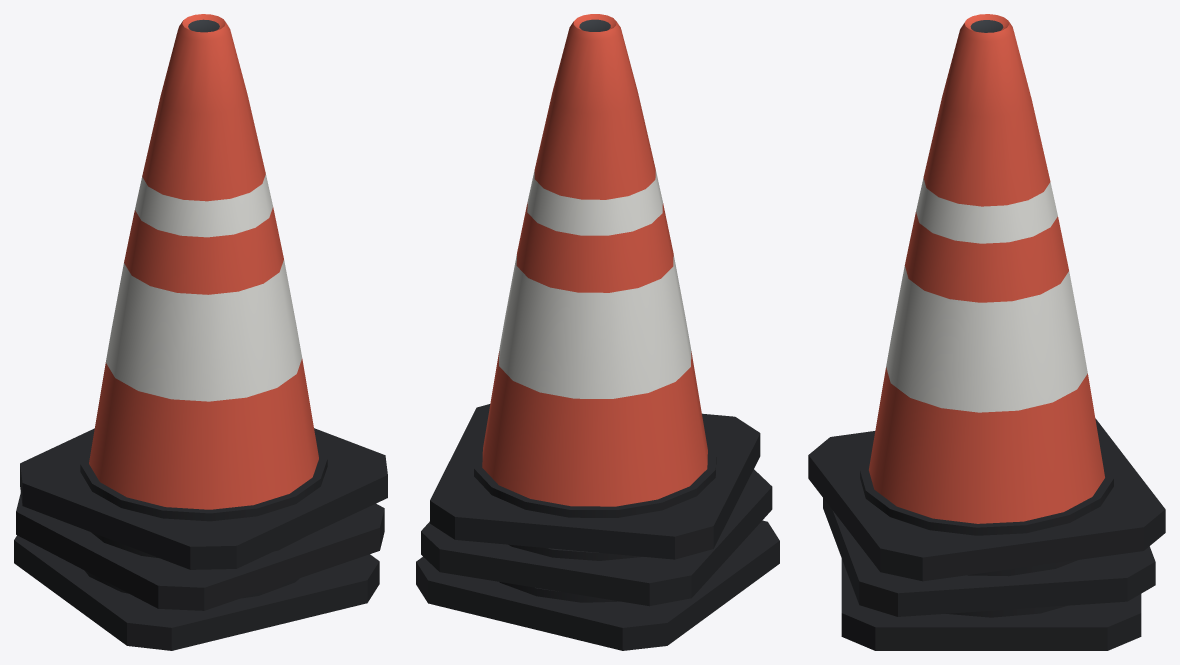
The model's file is SC_Util_Traffic_Cone_Stack.gltf.
3 views of the same model, side by side, from view 1: azimuth 30°, elevation 25°; view 2: azimuth 150°, elevation 25°; view 3: azimuth 270°, elevation 25° (orthographic). The views are drawn at different scales.
Visible parts, largest first — view 1: SC_Util_Traffic_Cone_Stack; view 2: SC_Util_Traffic_Cone_Stack; view 3: SC_Util_Traffic_Cone_Stack.
Boxes of the visible parts, x1,y1,x2,y2 form: SC_Util_Traffic_Cone_Stack: (14, 14, 387, 650); SC_Util_Traffic_Cone_Stack: (416, 14, 779, 650); SC_Util_Traffic_Cone_Stack: (808, 14, 1165, 650).
Bounding box in the file's own units: 0.4762 × 0.834 × 0.4762.
1 material, 1 textured.
